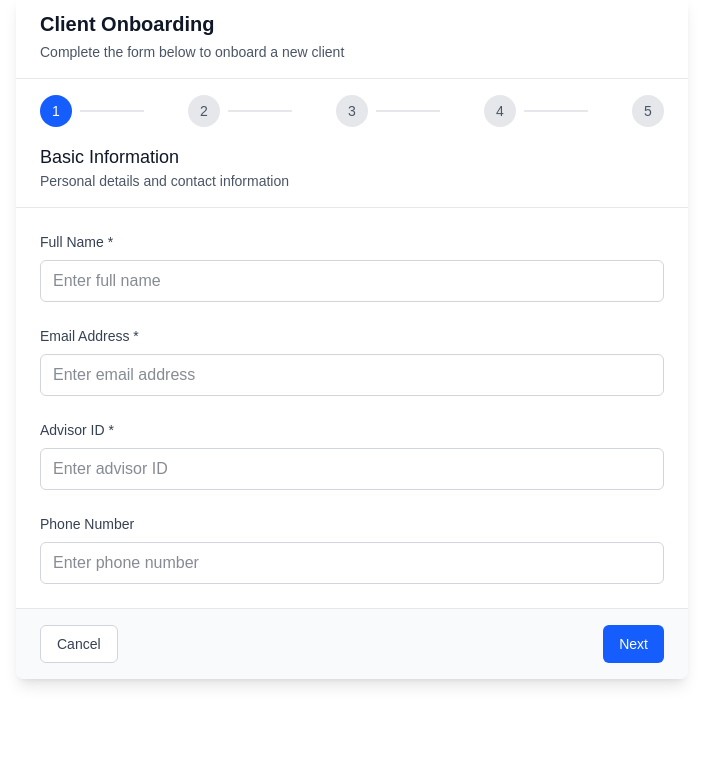
it: Phase 3 Advanced Features › ClientOnboarding Component › validates required fields before proceeding
// Try to proceed without filling required fields
Click the button "Next".
click(634, 644)  # box [603,625,664,663]
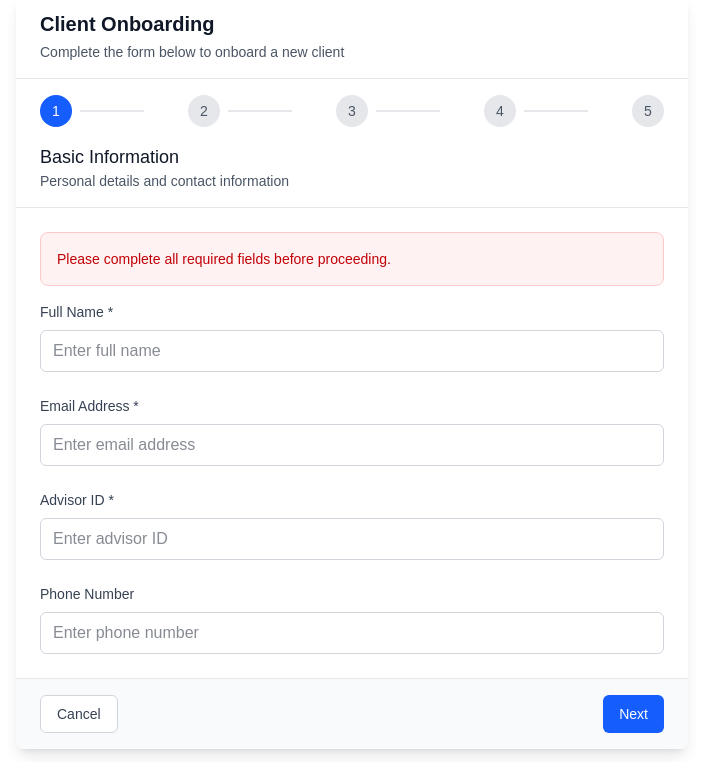
Now the text "Please complete all required fields before proceeding." is shown, box [57,251,391,267]
